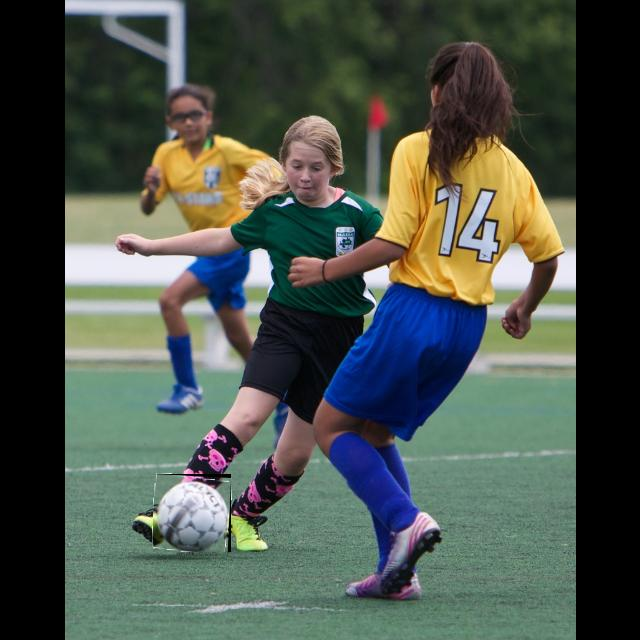Football: (153, 474, 231, 552)
